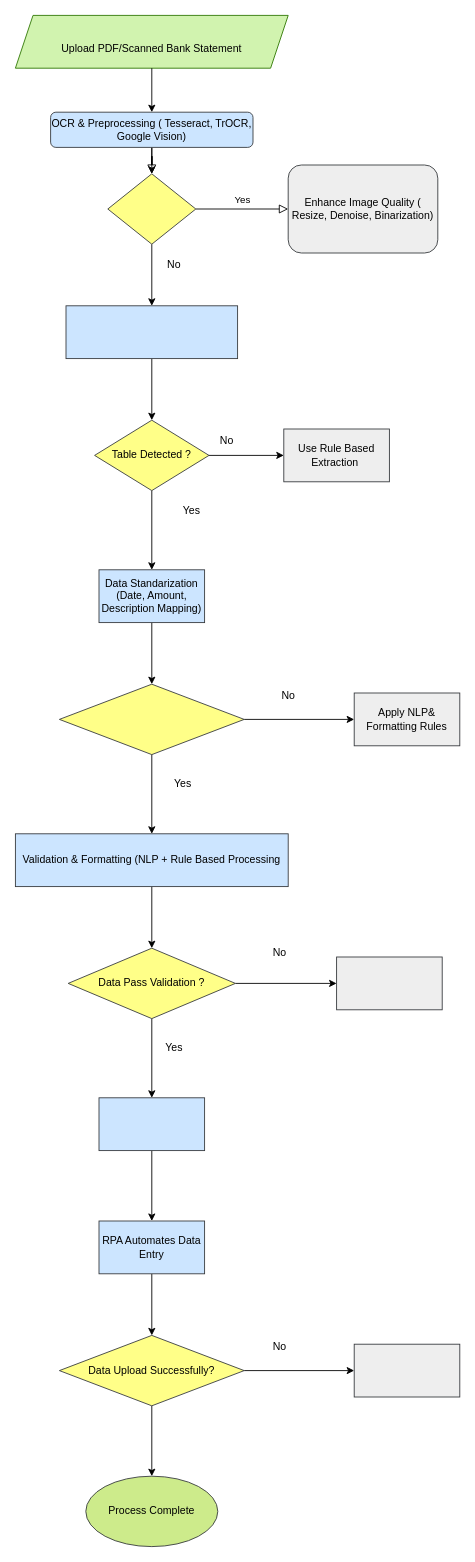
Image size: 475x1562. Some labels were removed from this diagram. Here are the shapes that lost their labels. From the top down, the centre of each, then its label:
At point 151,208: "OCR Failed?".
At point 151,332: "Table & Key Detection ( Detectron2, LayoutLM)".
At point 151,719: "Data format correct?".
At point 389,983: "Manual Review Needed".
At point 151,1124: "Export Structured Data (Excel, CSV)".
At point 406,1370: "Retry or Log Issue".
